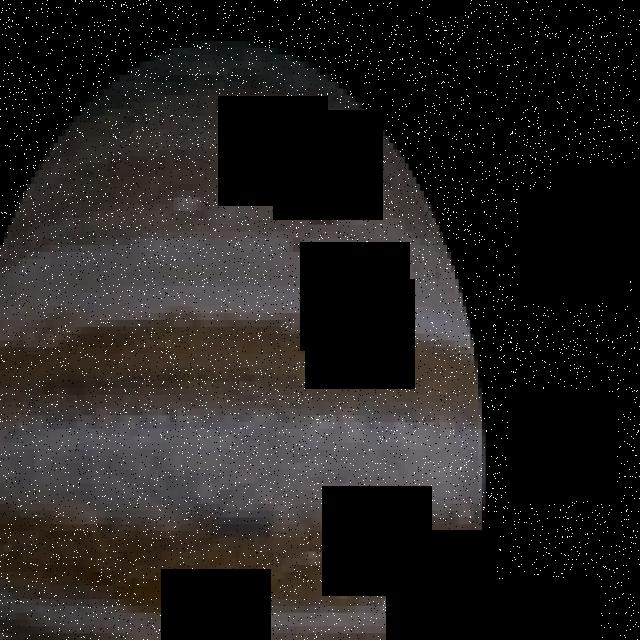Jupiter: (0, 41, 490, 640)
